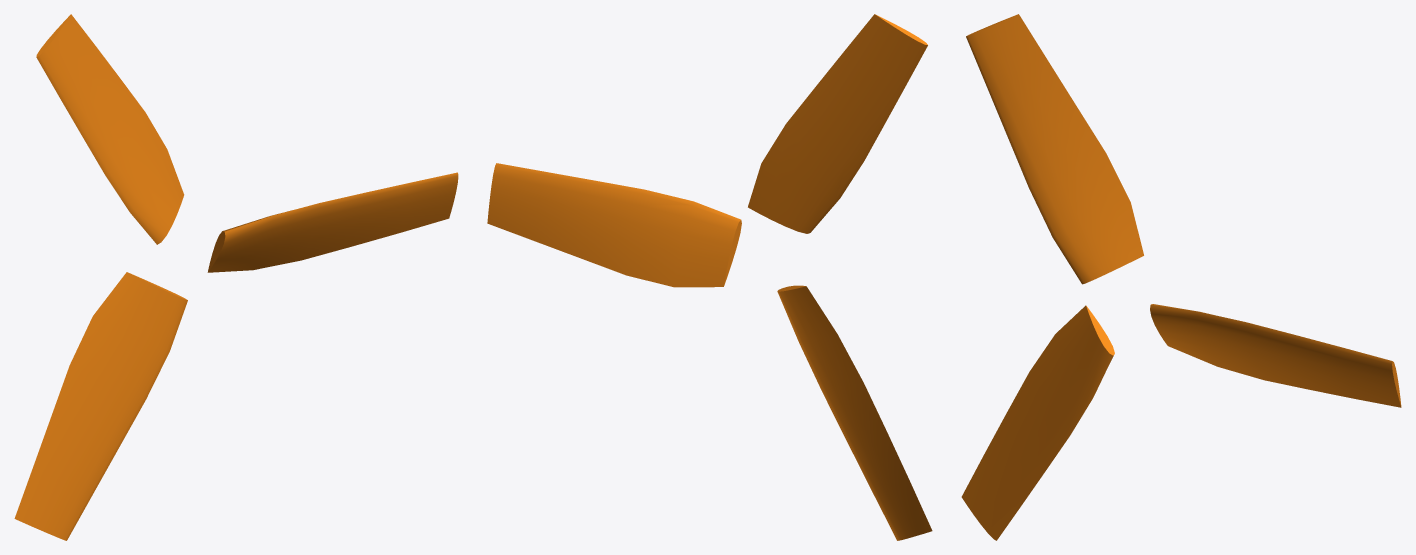
Rendered from front_right_prop.obj.
The picture shows the model from 3 angles, left to right: view 1: azimuth 30°, elevation 25°; view 2: azimuth 150°, elevation 25°; view 3: azimuth 330°, elevation 25°; orthographic projection. The views are drawn at different scales.
Parts seen in each view (by area): view 1: front_right_prop; view 2: front_right_prop; view 3: front_right_prop.
Part boxes in pixels (x1,y1,x2,y2): front_right_prop: (14, 14, 458, 540); front_right_prop: (487, 14, 932, 540); front_right_prop: (961, 14, 1401, 540).
Size of the model in its own units: 0.0876 by 0.0996 by 0.00707.
